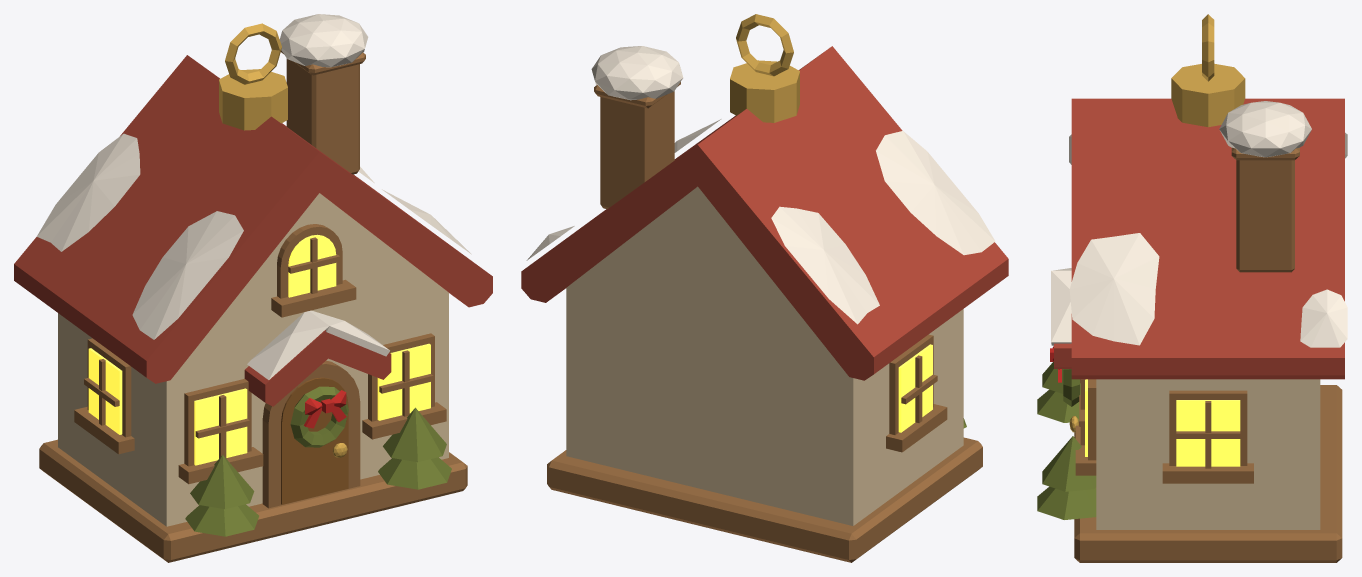
Rendered from 12 Christmas House Ornament.glb.
3 renders of one model, left to right at view 1: azimuth 30°, elevation 25°; view 2: azimuth 150°, elevation 25°; view 3: azimuth 270°, elevation 25°, orthographic. The views are drawn at different scales.
Parts seen in each view (by area): view 1: Square chimney, Uneven polygon snow patch, Uneven polygon snow patch.001, Chimney snowy cap, Snow on porch awning, Snow on porch awning.001; view 2: Square chimney, Uneven polygon snow patch, Uneven polygon snow patch.001, Chimney snowy cap; view 3: Square chimney, Uneven polygon snow patch.002, Chimney snowy cap, Uneven polygon snow patch.003, Snow on porch awning.001.
Boxes of the visible parts, x1,y1,x2,y2 form: Square chimney: (14, 23, 492, 562); Uneven polygon snow patch: (132, 211, 243, 339); Uneven polygon snow patch.001: (37, 133, 140, 251); Chimney snowy cap: (279, 14, 368, 67); Snow on porch awning: (247, 311, 329, 379); Snow on porch awning.001: (309, 310, 389, 356); Square chimney: (521, 14, 1008, 562); Uneven polygon snow patch: (876, 131, 995, 255); Uneven polygon snow patch.001: (771, 206, 879, 324); Chimney snowy cap: (591, 46, 683, 100); Square chimney: (1037, 14, 1344, 562); Uneven polygon snow patch.002: (1069, 233, 1159, 345); Chimney snowy cap: (1219, 101, 1311, 157); Uneven polygon snow patch.003: (1300, 289, 1347, 347); Snow on porch awning.001: (1051, 270, 1071, 345).
Bounding box in the file's own units: 3.02 × 3.8 × 2.27.
